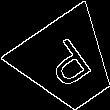P_SE: (37, 32, 98, 95)
